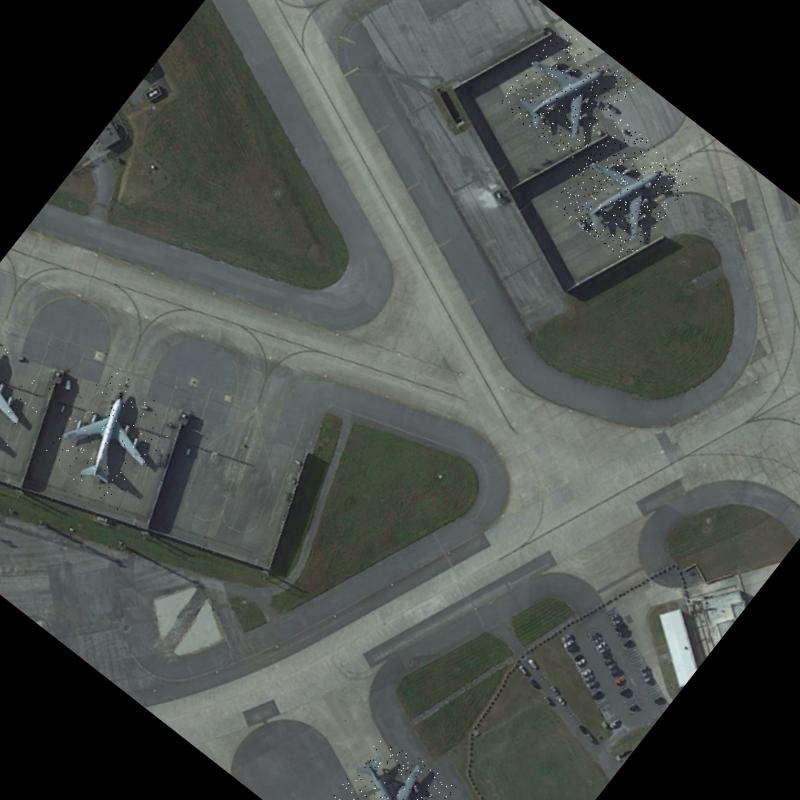A11: (41, 366, 186, 514), (0, 326, 58, 473)
A14: (549, 117, 696, 266), (497, 26, 636, 165), (325, 731, 458, 800)
